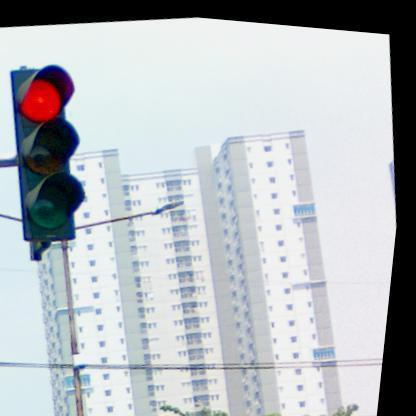red: (0, 56, 103, 247)
